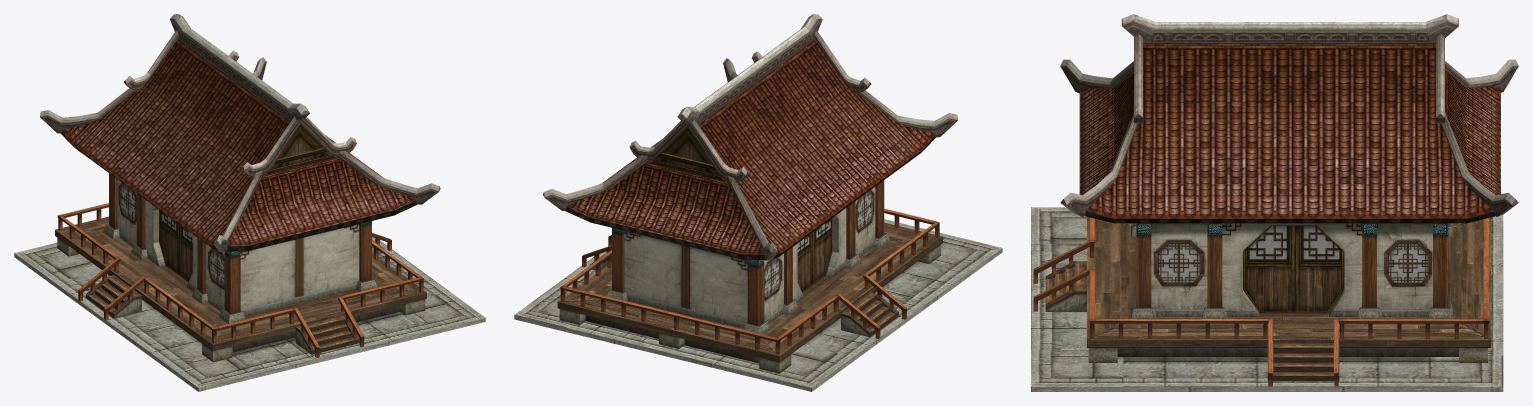
Rendered from a1-008-house5.fbx.
3 renders of one model, left to right at view 1: azimuth 30°, elevation 25°; view 2: azimuth 150°, elevation 25°; view 3: azimuth 270°, elevation 25°, orthographic. The views are drawn at different scales.
Visible parts, largest first — view 1: a1-008-house5-03; view 2: a1-008-house5-03; view 3: a1-008-house5-03.
Boxes of the visible parts, <box> form: a1-008-house5-03: <box>14,14,485,391</box>; a1-008-house5-03: <box>514,14,1002,391</box>; a1-008-house5-03: <box>1031,14,1518,391</box>.
Size of the model in its own units: 14.74 by 11 by 16.91.
